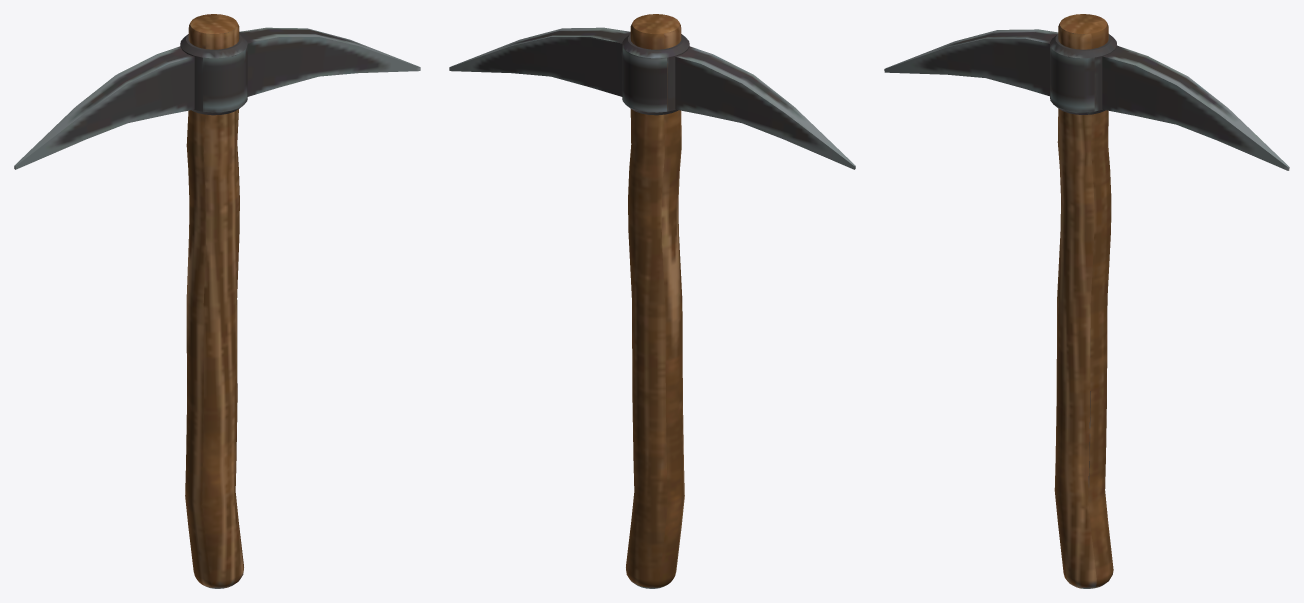
Rendered from SM_pickaxe.glb.
The picture shows the model from 3 angles, left to right: view 1: azimuth 30°, elevation 25°; view 2: azimuth 150°, elevation 25°; view 3: azimuth 330°, elevation 25°; orthographic projection.
Visible parts, largest first — view 1: SM_pickaxe; view 2: SM_pickaxe; view 3: SM_pickaxe.
Part boxes in pixels (x1,y1,x2,y2): SM_pickaxe: (14,14,420,588); SM_pickaxe: (449,14,855,588); SM_pickaxe: (884,14,1289,588).
Bounding box in the file's own units: 0.5164 × 0.685 × 0.0748.
1 material, 1 textured.
